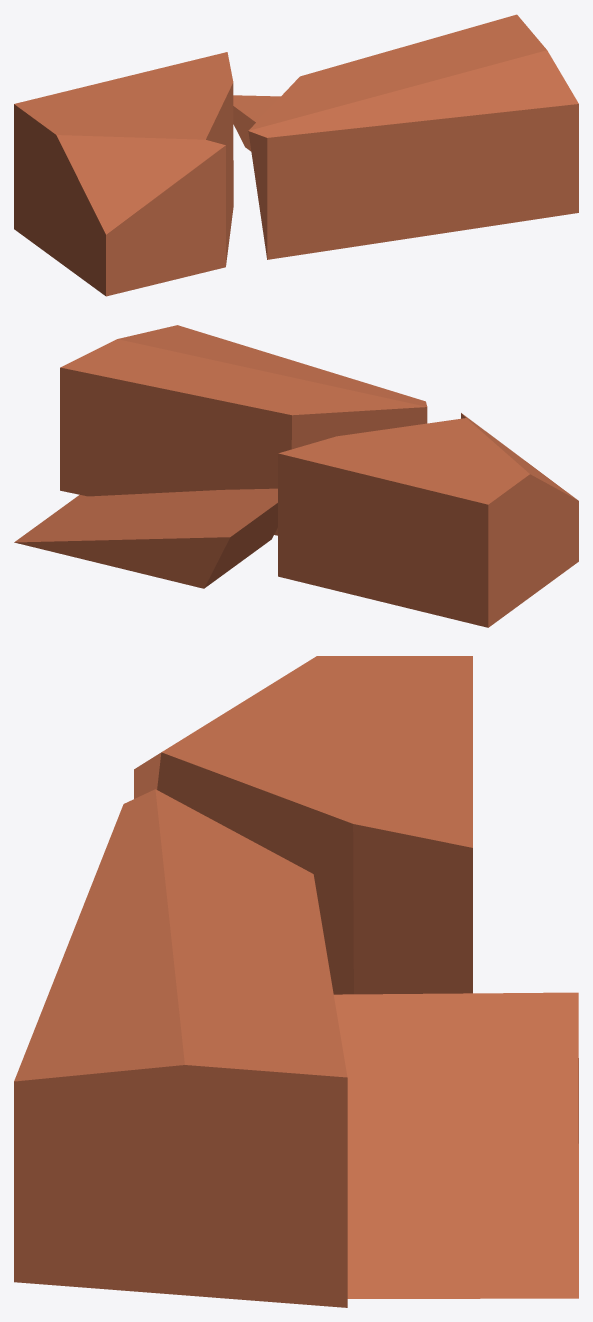
Rendered from Brick_crk_05.fbx.
3 views of the same model, one above another, from view 1: azimuth 30°, elevation 25°; view 2: azimuth 150°, elevation 25°; view 3: azimuth 270°, elevation 25° (orthographic). The views are drawn at different scales.
Visible parts, largest first — view 1: Brick_crk_05; view 2: Brick_crk_05; view 3: Brick_crk_05.
Boxes of the visible parts, x1=… form: Brick_crk_05: x1=14, y1=14, x2=578, y2=296; Brick_crk_05: x1=14, y1=325, x2=578, y2=627; Brick_crk_05: x1=14, y1=656, x2=578, y2=1307.
Size of the model in its own units: 29.42 by 7.68 by 16.66.
